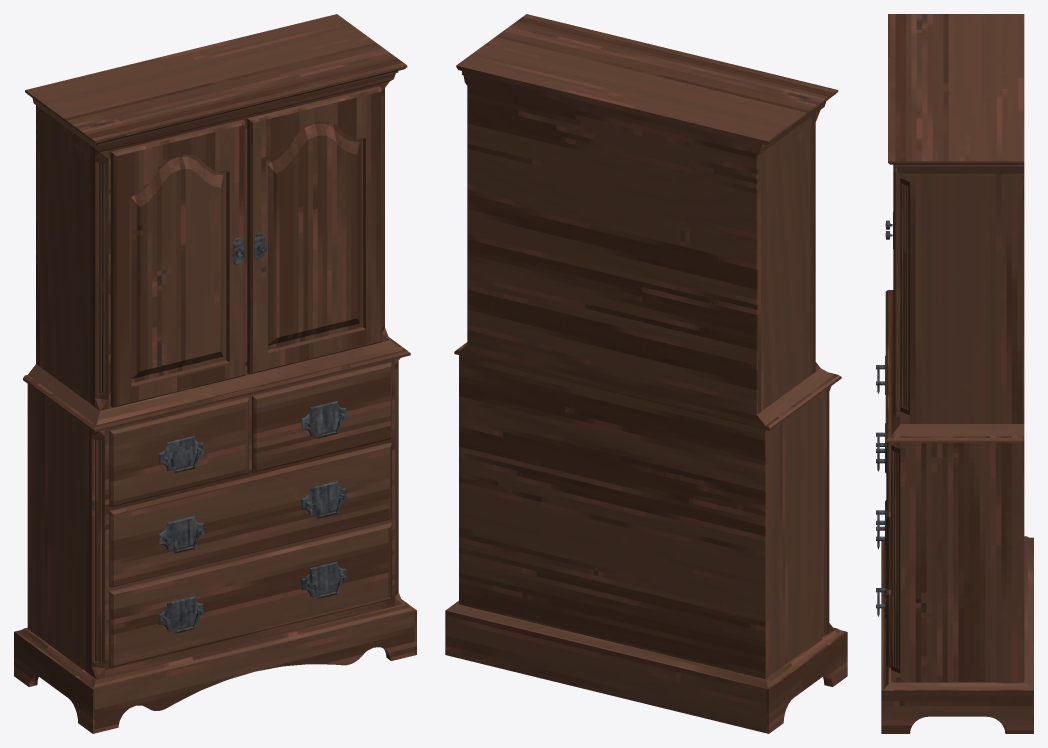
File: dresser_final.fbx
3 views of the same model, side by side, from view 1: azimuth 30°, elevation 25°; view 2: azimuth 150°, elevation 25°; view 3: azimuth 270°, elevation 25° (orthographic). The views are drawn at different scales.
Visible parts, largest first — view 1: Dresser; view 2: Dresser; view 3: Dresser.
Boxes of the visible parts, x1,y1,x2,y2 form: Dresser: [14, 14, 416, 733]; Dresser: [445, 14, 847, 733]; Dresser: [876, 14, 1033, 733].
Size of the model in its own units: 143 by 249 by 62.43.
